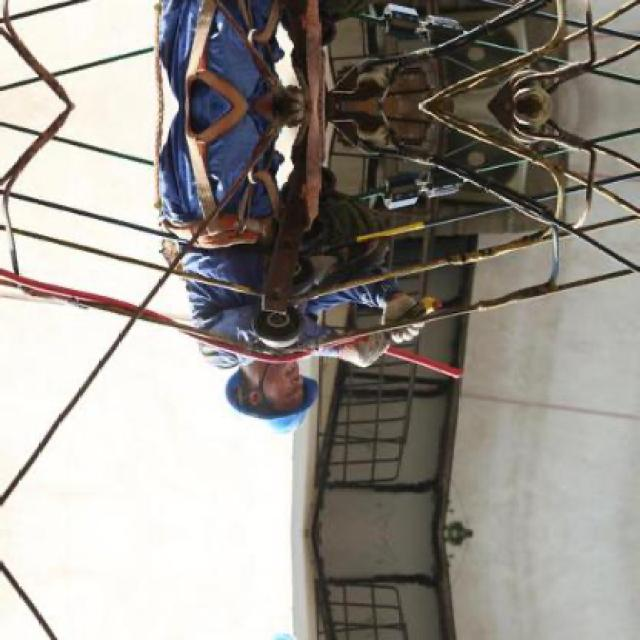con casco: (208, 357, 338, 445)
